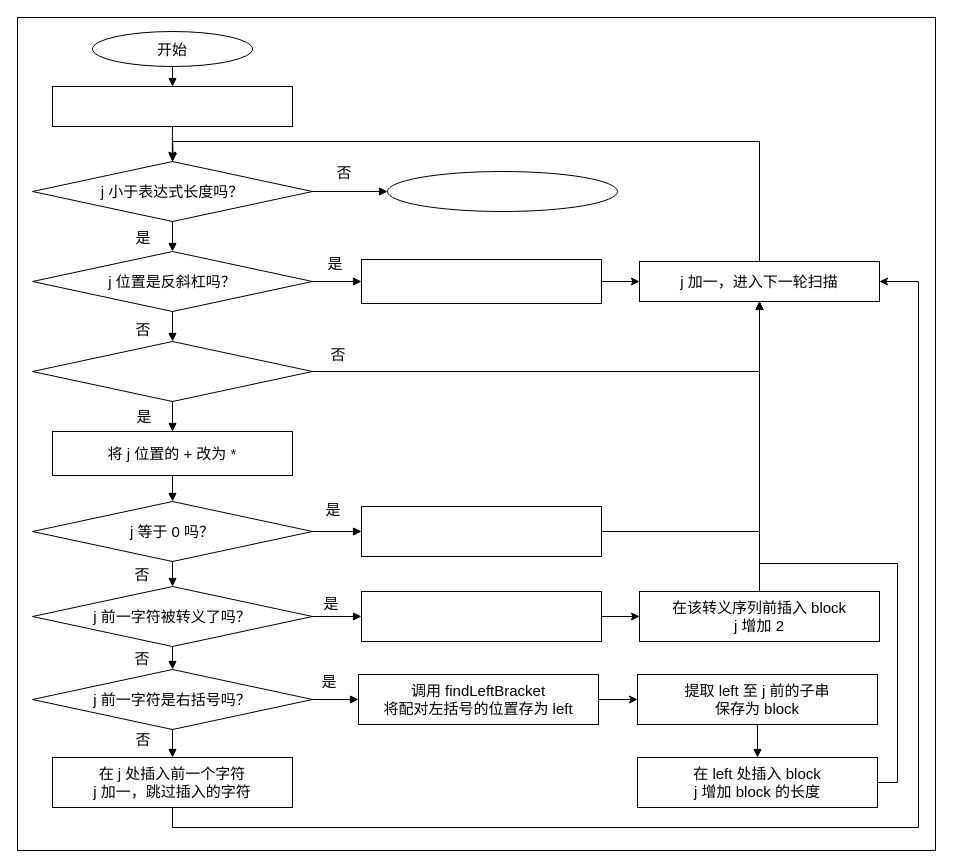
The diagram is 953 pixels wide and 868 high, and some of its shapes have lost their labels. The box of each missing label's shape, as (x1, y1, x2, y2) in pixels:
j 位置是正闭包符号 + 吗？: (32, 340, 312, 402)
j 加一，跳过被转义字符: (360, 258, 602, 304)
删除 j 位置的字符 j 减一: (360, 506, 602, 556)
将扫描下标 j 初始化为 0: (52, 86, 292, 126)
提取 j 前面的两个字符 保存为 block: (360, 590, 602, 642)
正闭包改写结束: (386, 170, 618, 212)
